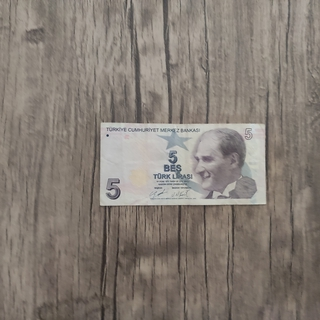5TLFront: (99, 122, 267, 206)
